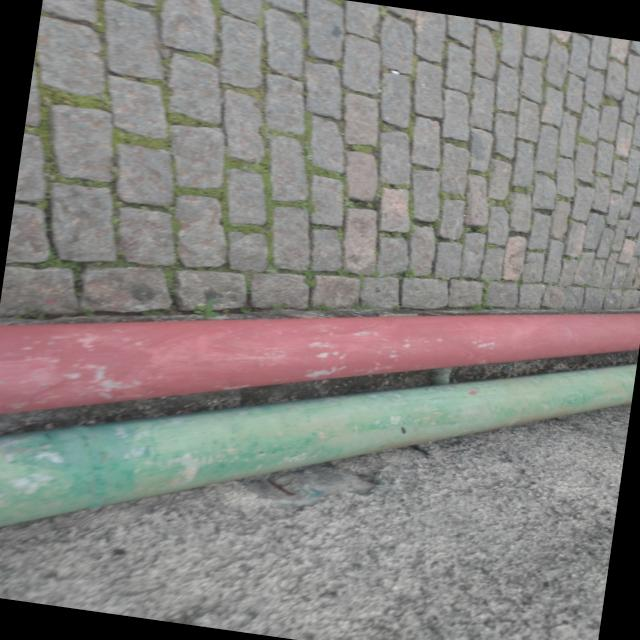gas: (0, 365, 637, 529), (0, 315, 640, 410)
